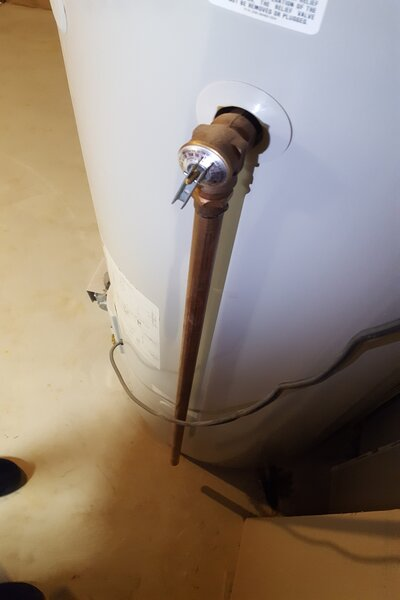valve: (170, 108, 264, 247)
